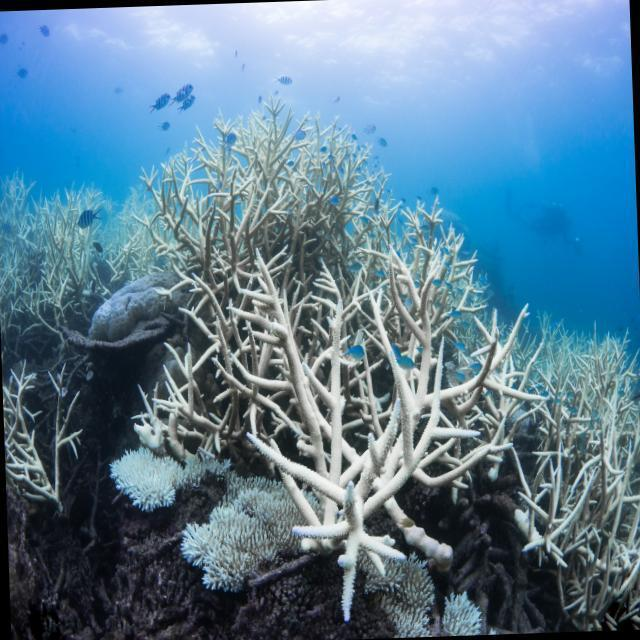Bleached Coral: (149, 117, 365, 422), (283, 253, 483, 572), (511, 349, 640, 627), (192, 460, 283, 595), (1, 349, 47, 502), (444, 592, 489, 636)
Dead Coral: (0, 157, 118, 384), (7, 504, 182, 638)
